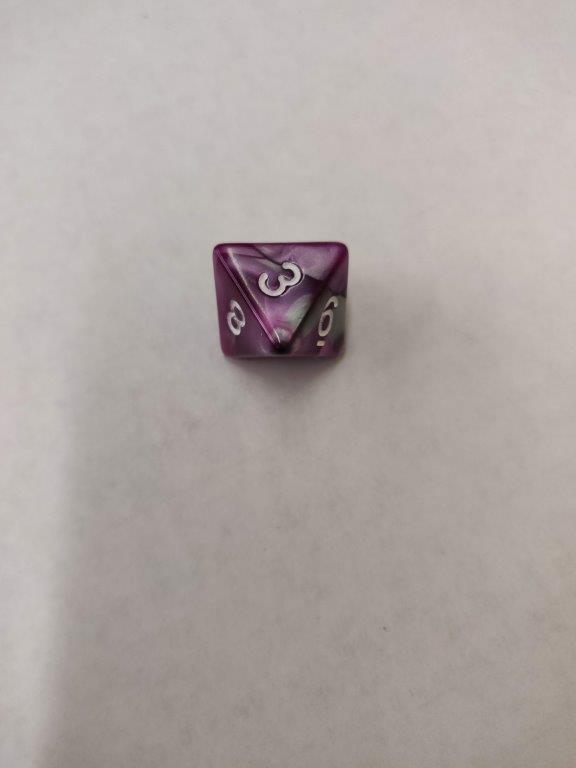d8-3: (210, 243, 350, 363)
